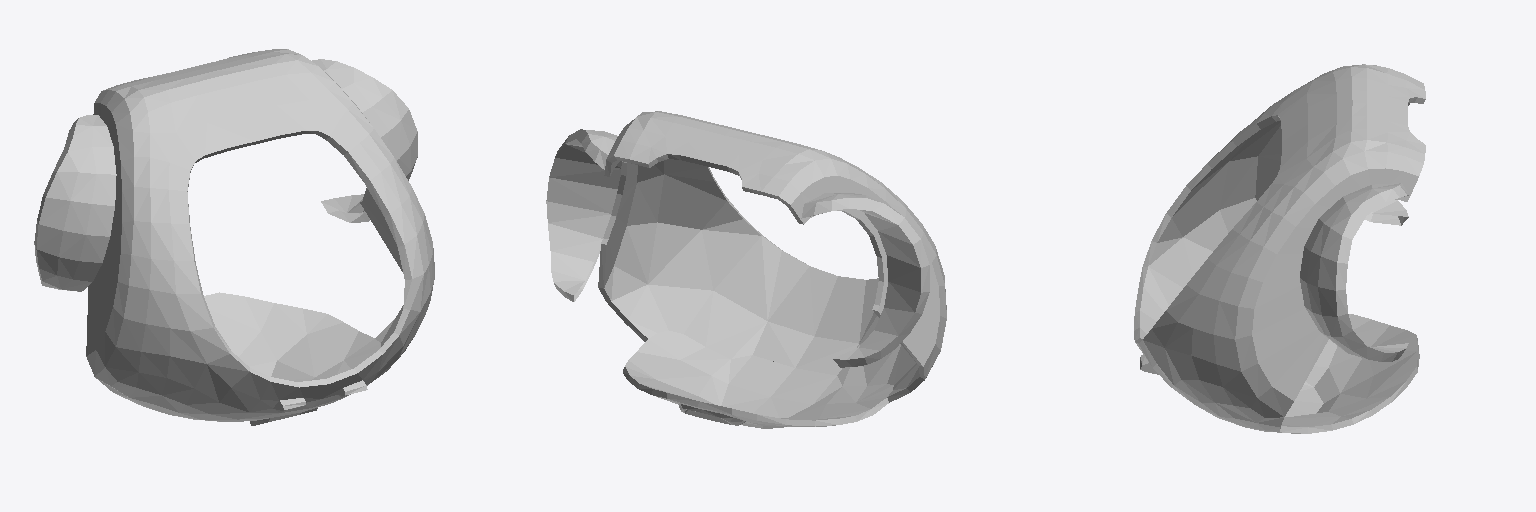
File: FrontArmorProtectron.obj
3 views of the same model, side by side, from view 1: azimuth 30°, elevation 25°; view 2: azimuth 150°, elevation 25°; view 3: azimuth 270°, elevation 25° (orthographic).
Visible parts, largest first — view 1: FrontArmorProtectron:0; view 2: FrontArmorProtectron:0; view 3: FrontArmorProtectron:0.
Boxes of the visible parts, box(x1,y1,x2,y2) form: FrontArmorProtectron:0: box(34, 49, 434, 425); FrontArmorProtectron:0: box(546, 111, 946, 428); FrontArmorProtectron:0: box(1134, 64, 1425, 433).
Size of the model in its own units: 5.86 by 4.5 by 3.88.